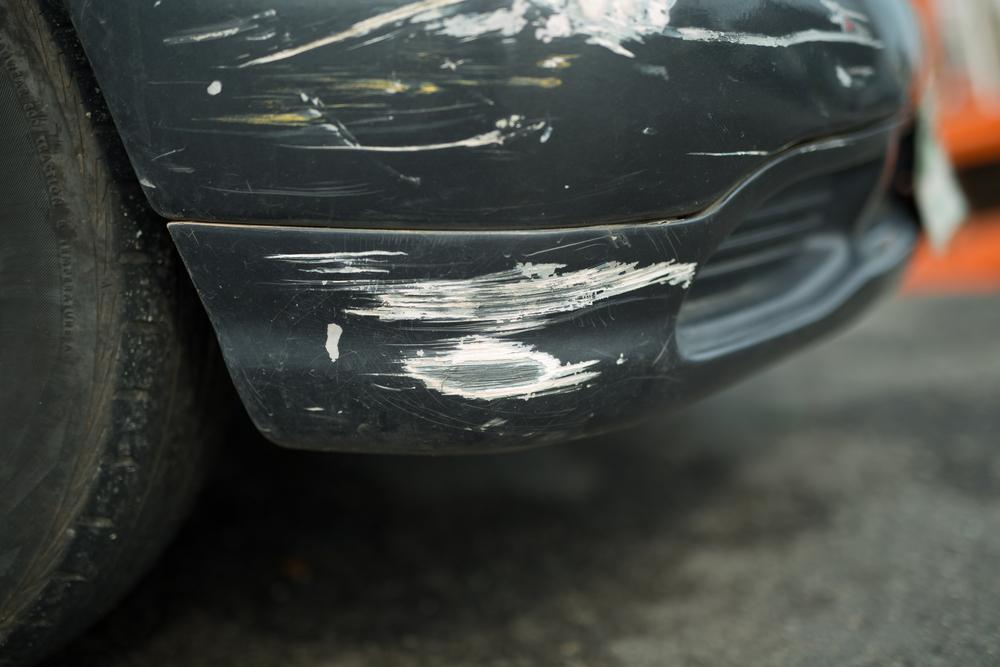scratch: (143, 0, 894, 196), (274, 236, 700, 423)
